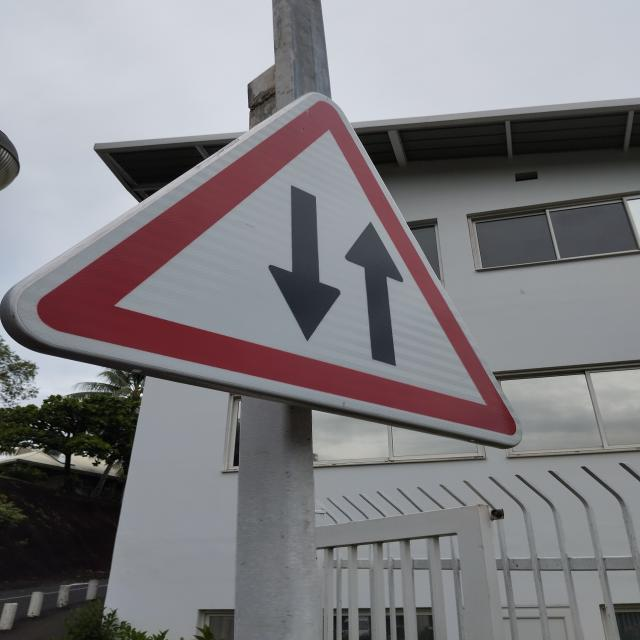Double-Sens: (0, 88, 532, 452)
